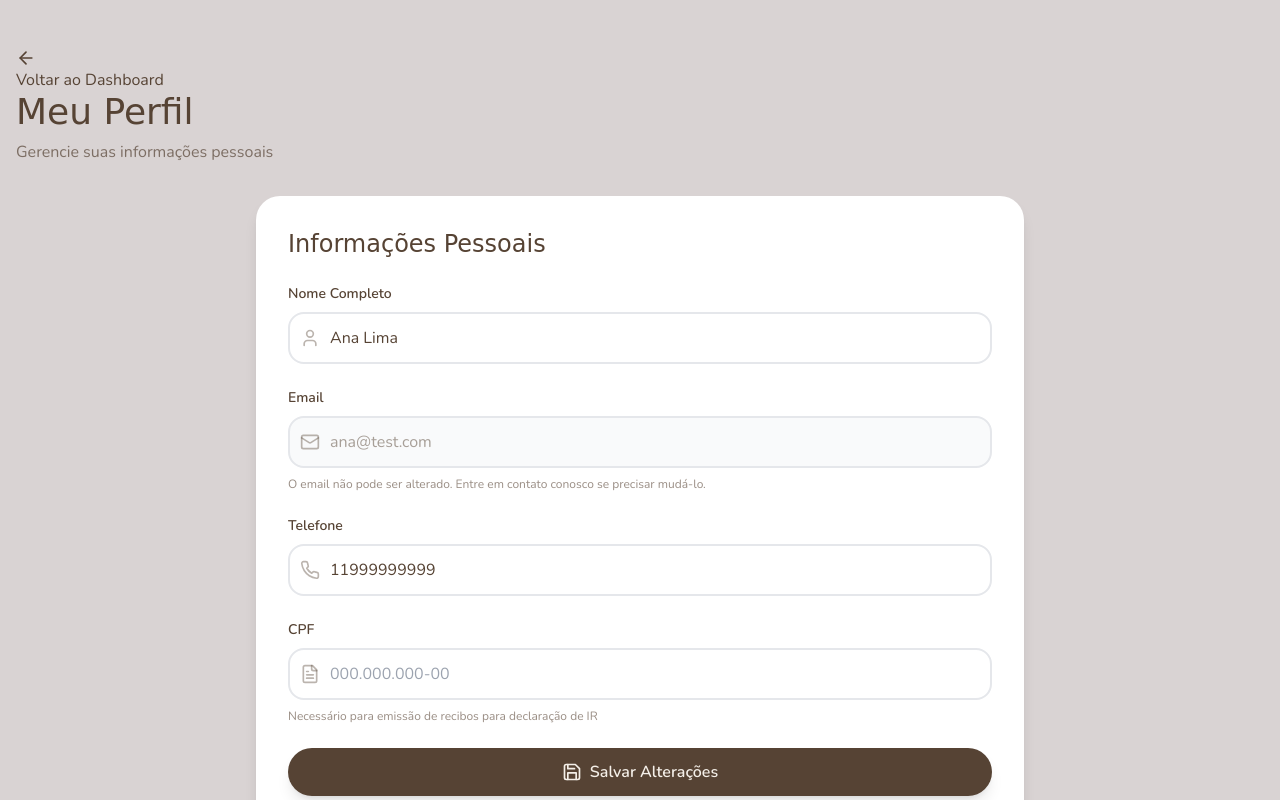
Test: PerfilPage › shows success message after profile saved
Click the button "Salvar Alterações": (640, 772) x1=288 y1=748 x2=992 y2=796
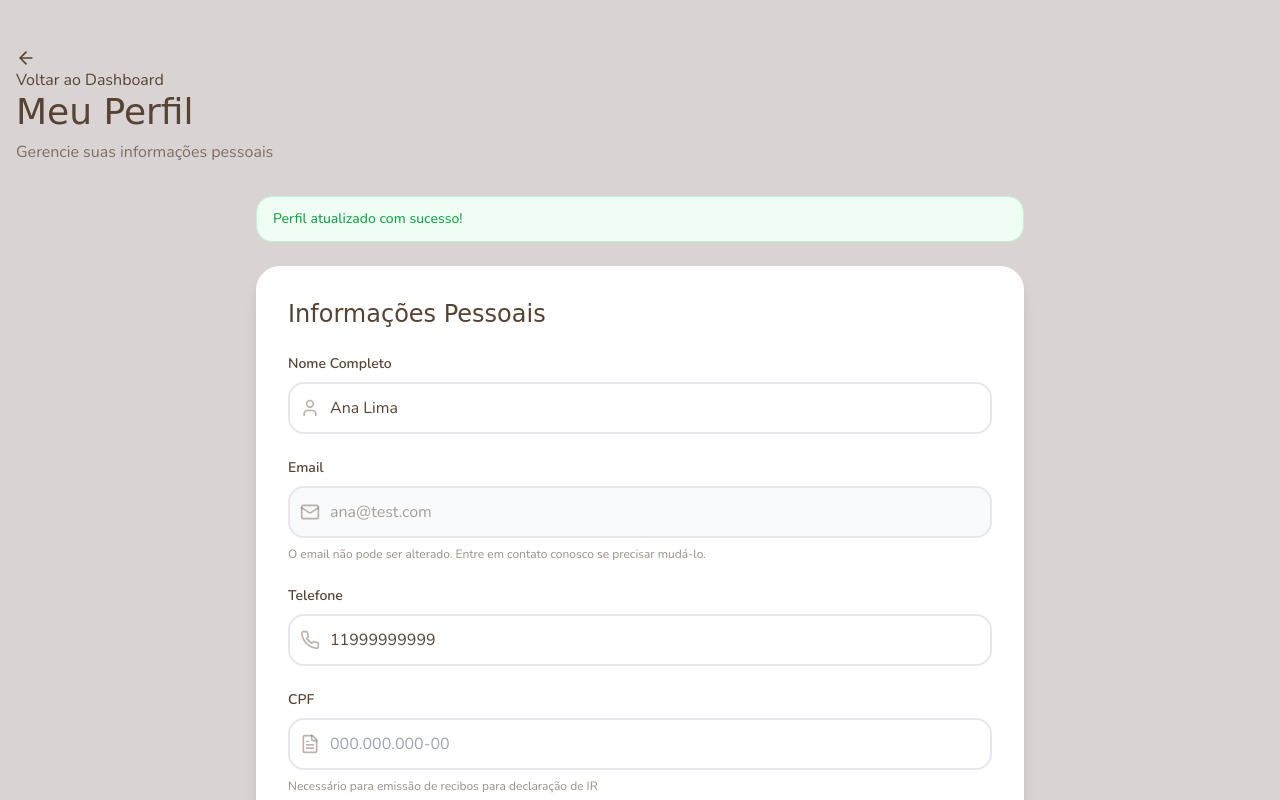
Result: the text "Perfil atualizado com sucesso!" is shown at x1=273 y1=209 x2=463 y2=229
